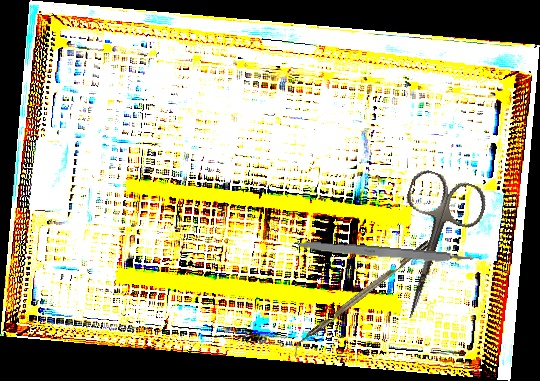Chopper: (286, 240, 437, 358)
Iris Scissors: (371, 166, 491, 330)
Scalpel Handle: (293, 239, 475, 267)
